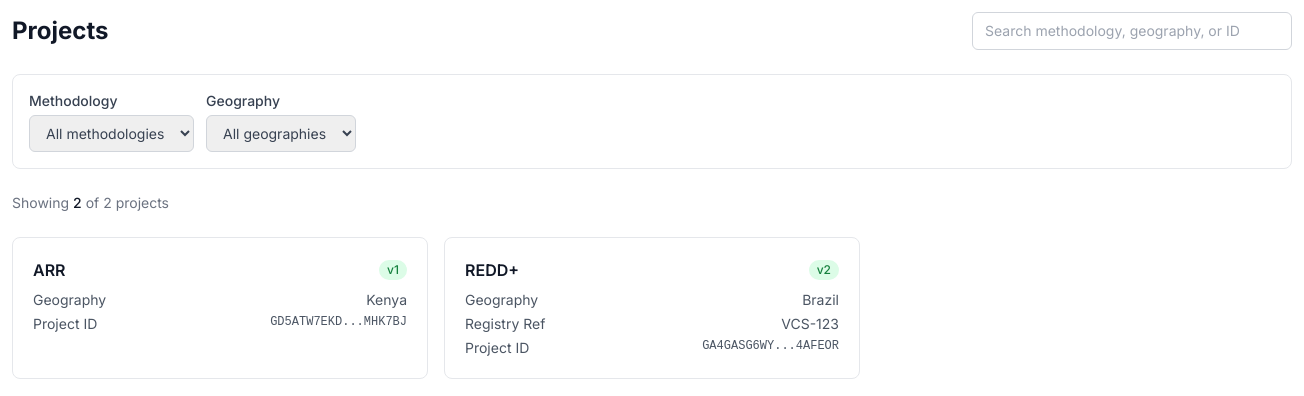
Test: Projects page › filters projects by methodology and geography selects
Check: the heading "ARR" is shown, box [33,258,66,282]
Select "REDD+" in the dropdown labelled "Methodology" at (112, 134), box [29,115,194,152]
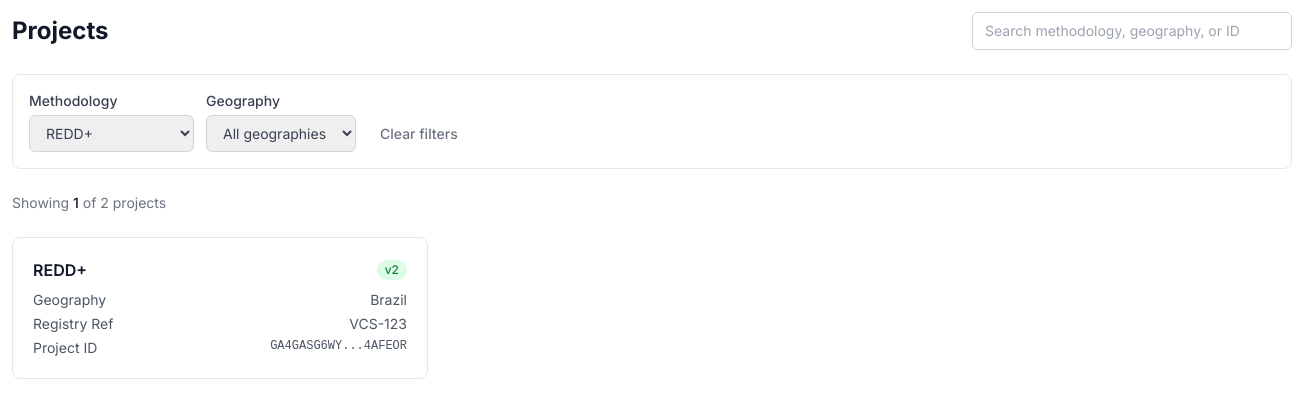
Check: the heading "REDD+" is shown, box [33,258,87,282]
Check: the link "ARR" is gone
Select "Brazil" in the dropdown labelled "Geography" at (281, 134), box [206,115,356,152]
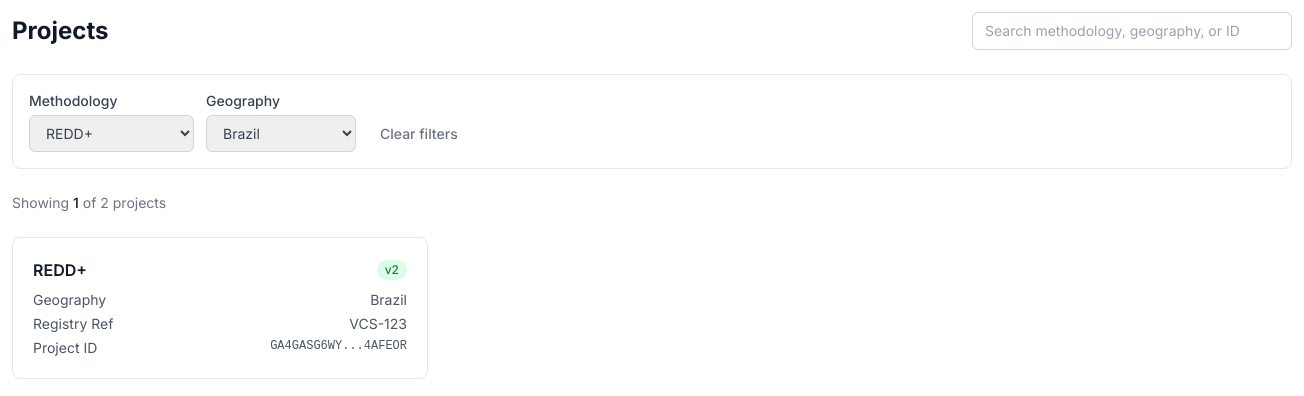
Check: the heading "REDD+" is shown, box [33,258,87,282]
Check: the link "ARR" is not shown
Select "Kenya" in the dropdown labelled "Geography" at (281, 134), box [206,115,356,152]
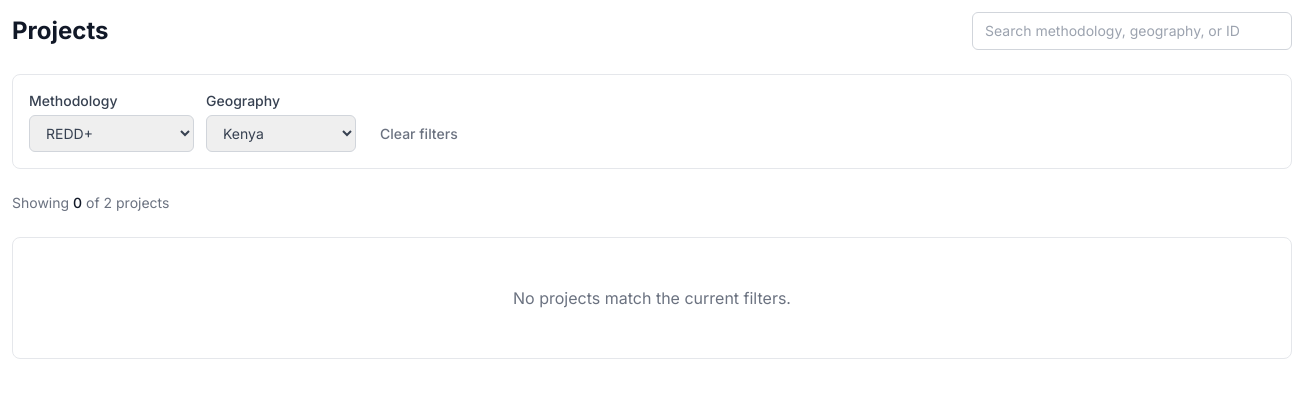
Check: the text "No projects match the current filters." is shown, box [513,288,791,308]
